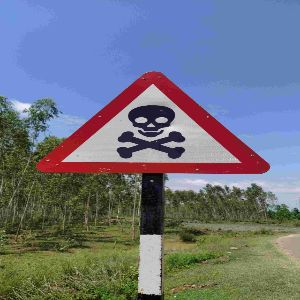Accident prone area: (23, 66, 283, 186)
